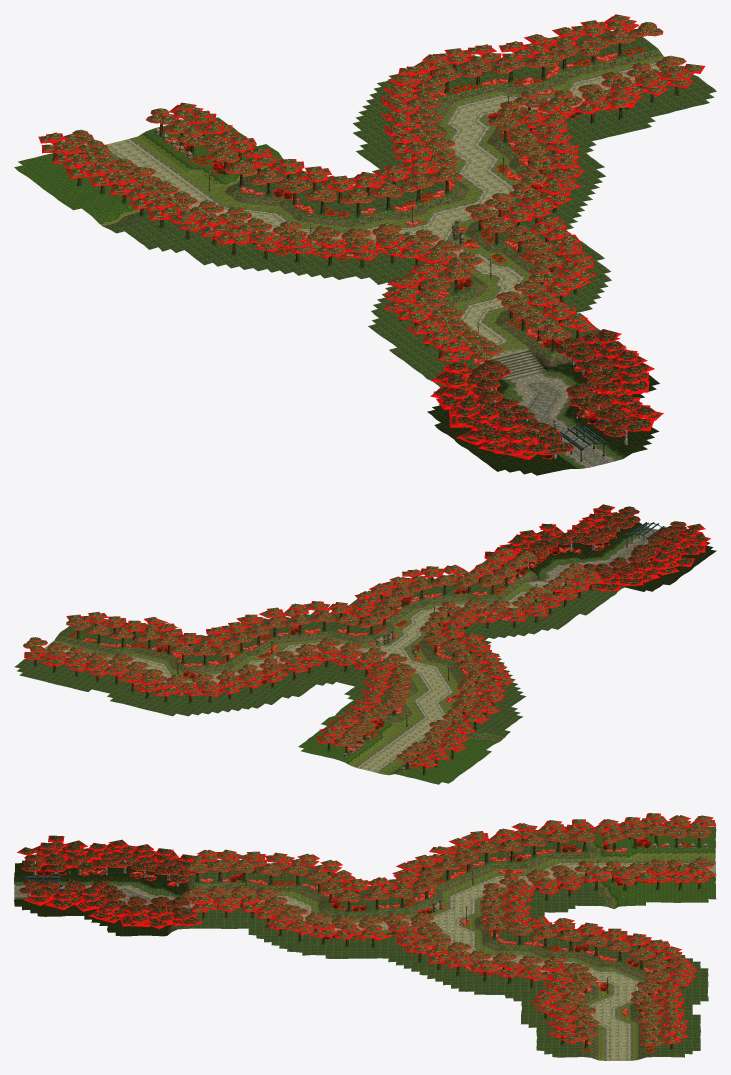
Rendered from RoyalAvenueWest.obj.
3 renders of one model, top to bottom at view 1: azimuth 30°, elevation 25°; view 2: azimuth 150°, elevation 25°; view 3: azimuth 270°, elevation 25°, orthographic. The views are drawn at different scales.
Parts seen in each view (by area): view 1: Object.014; view 2: Object.014; view 3: Object.014.
Part boxes in pixels (box(x1,y1,x2,y2)): Object.014: box(14, 14, 716, 475); Object.014: box(14, 504, 716, 784); Object.014: box(14, 813, 716, 1060).
Size of the model in its own units: 143 by 9.17 by 180.
Materials: 17 (17 with a texture image).
